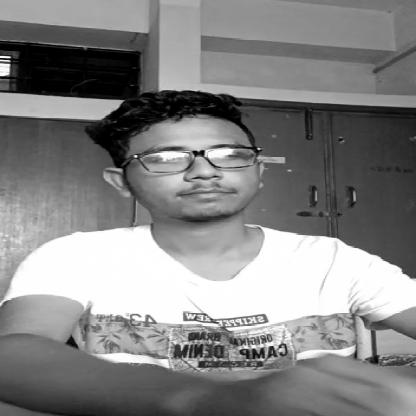Normal: (102, 112, 286, 233)
